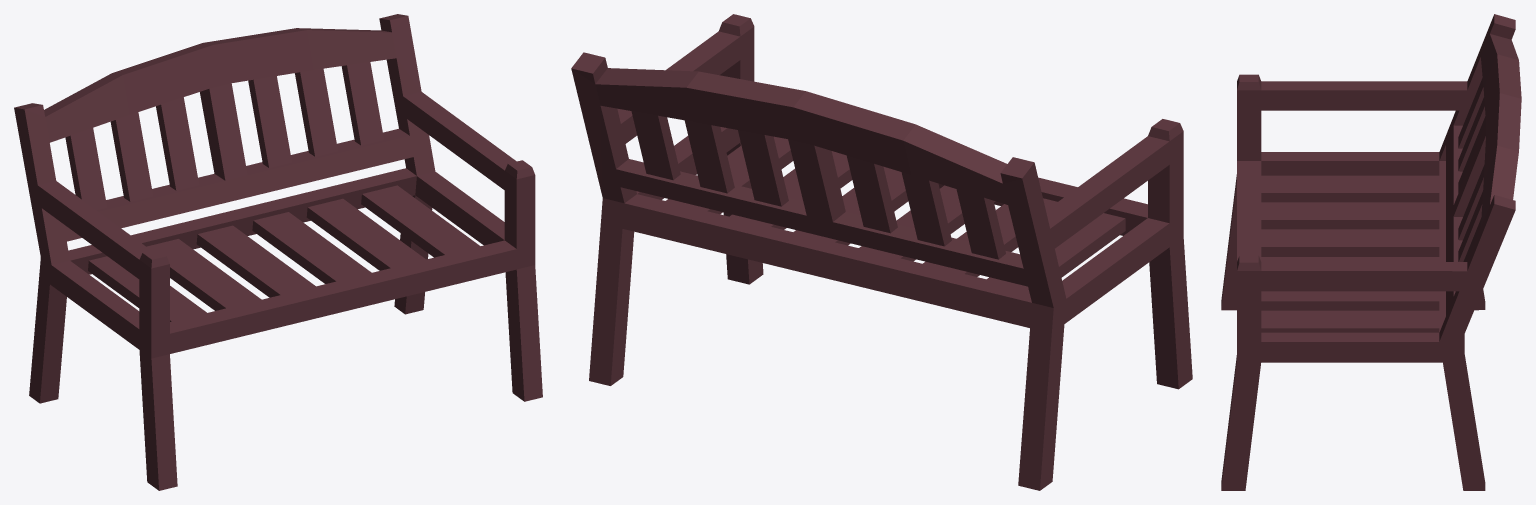
The model's file is bench-garden.fbx.
The picture shows the model from 3 angles, left to right: view 1: azimuth 30°, elevation 25°; view 2: azimuth 150°, elevation 25°; view 3: azimuth 270°, elevation 25°; orthographic projection. The views are drawn at different scales.
Visible parts, largest first — view 1: bench-garden; view 2: bench-garden; view 3: bench-garden.
Boxes of the visible parts, <box> form: bench-garden: <box>14,14,542,490</box>; bench-garden: <box>571,14,1192,490</box>; bench-garden: <box>1221,14,1521,490</box>.
Bounding box in the file's own units: 1.11 × 0.8259 × 0.7418.
